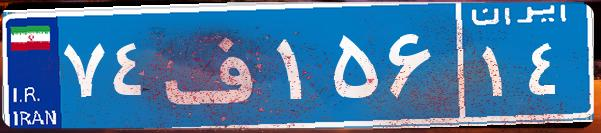1: (273, 28, 330, 110), (475, 38, 525, 113)
4: (110, 28, 158, 105), (525, 38, 570, 115)
5: (330, 28, 385, 110)
6: (385, 28, 445, 110)
7: (57, 26, 110, 107)
ف: (158, 15, 273, 115)
